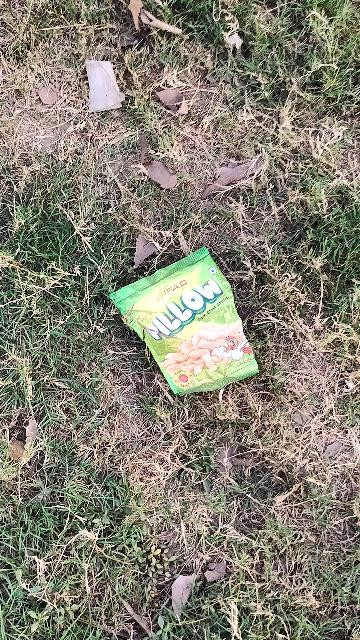packet: (110, 261, 265, 403)
